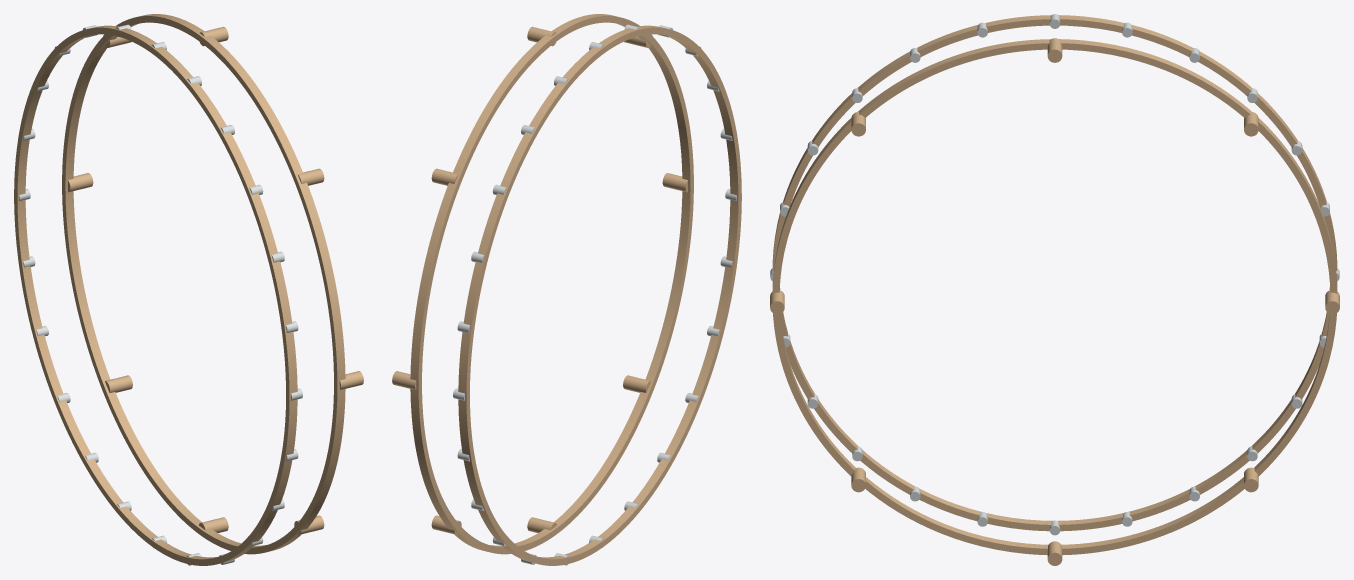
Rendered from diffuser-service-hardware.glb.
3 views of the same model, side by side, from view 1: azimuth 30°, elevation 25°; view 2: azimuth 150°, elevation 25°; view 3: azimuth 270°, elevation 25° (orthographic). The views are drawn at different scales.
Visible parts, largest first — view 1: diffuser-service-hardware - bronze, diffuser-service-hardware - fastener; view 2: diffuser-service-hardware - bronze, diffuser-service-hardware - fastener; view 3: diffuser-service-hardware - bronze, diffuser-service-hardware - fastener.
Part boxes in pixels (x1,y1,x2,y2): diffuser-service-hardware - bronze: (14,14,363,565); diffuser-service-hardware - fastener: (19,24,302,565); diffuser-service-hardware - bronze: (392,14,741,565); diffuser-service-hardware - fastener: (453,24,736,565); diffuser-service-hardware - bronze: (770,15,1339,565); diffuser-service-hardware - fastener: (770,14,1339,535).
Bounding box in the file's own units: 0.333 × 2.19 × 2.19.
